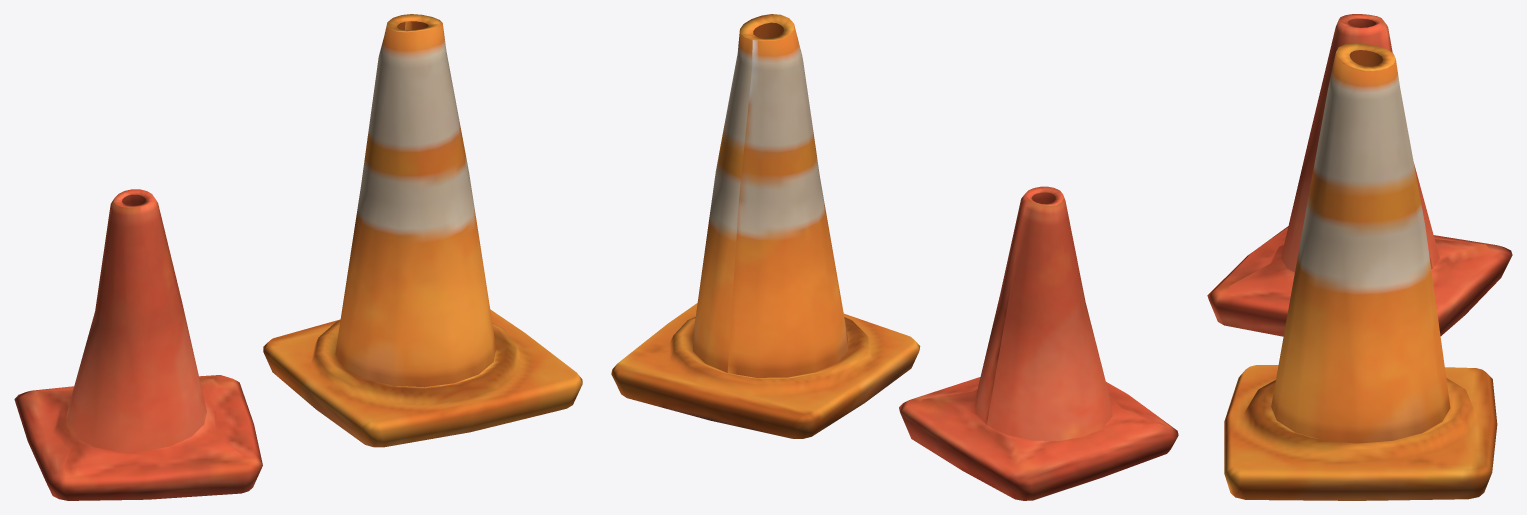
Rendered from nc_prop_cone_01.fbx.
The picture shows the model from 3 angles, left to right: view 1: azimuth 30°, elevation 25°; view 2: azimuth 150°, elevation 25°; view 3: azimuth 270°, elevation 25°; orthographic projection. The views are drawn at different scales.
Visible parts, largest first — view 1: nc_prop_cone_01_LOD0; view 2: nc_prop_cone_01_LOD0; view 3: nc_prop_cone_01_LOD0.
Part boxes in pixels (bbox=[...]): nc_prop_cone_01_LOD0: bbox=[14, 14, 582, 500]; nc_prop_cone_01_LOD0: bbox=[611, 14, 1178, 500]; nc_prop_cone_01_LOD0: bbox=[1207, 14, 1512, 500].
Size of what is drawn, in the model's own units: 0.8561 by 0.5907 by 0.4151.
1 material, 1 textured.
